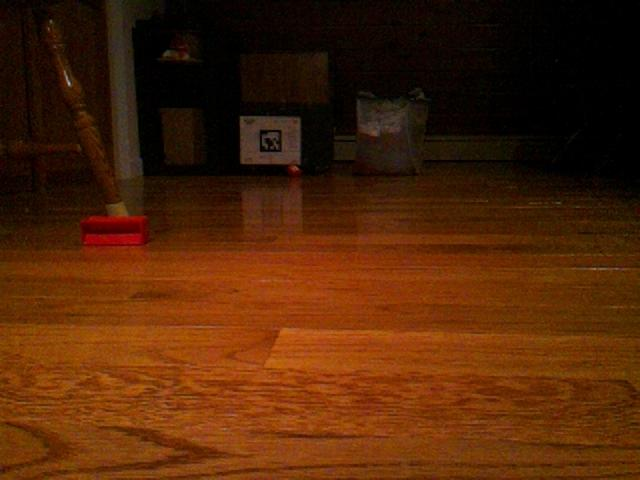red: (79, 214, 151, 247)
